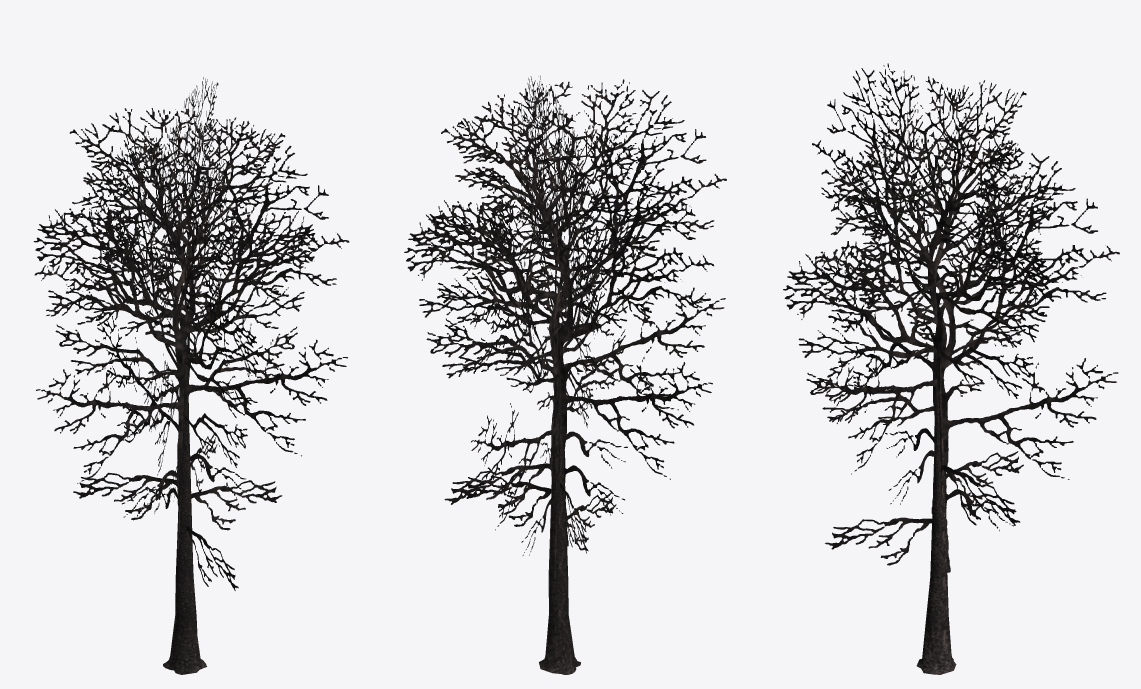
Rendered from dead_tree_rt_2.obj.
3 renders of one model, left to right at view 1: azimuth 30°, elevation 25°; view 2: azimuth 150°, elevation 25°; view 3: azimuth 270°, elevation 25°, orthographic. The views are drawn at different scales.
Visible parts, largest first — view 1: dead_tree_rt_2; view 2: dead_tree_rt_2; view 3: dead_tree_rt_2.
Part boxes in pixels (box(x1,y1,x2,y2)): dead_tree_rt_2: box(33, 77, 349, 674); dead_tree_rt_2: box(404, 75, 726, 674); dead_tree_rt_2: box(783, 63, 1119, 674).
Bounding box in the file's own units: 1.75 × 3.16 × 1.75.
